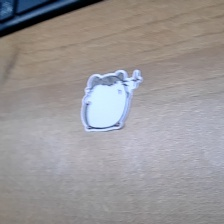mouse: (77, 67, 146, 133)
